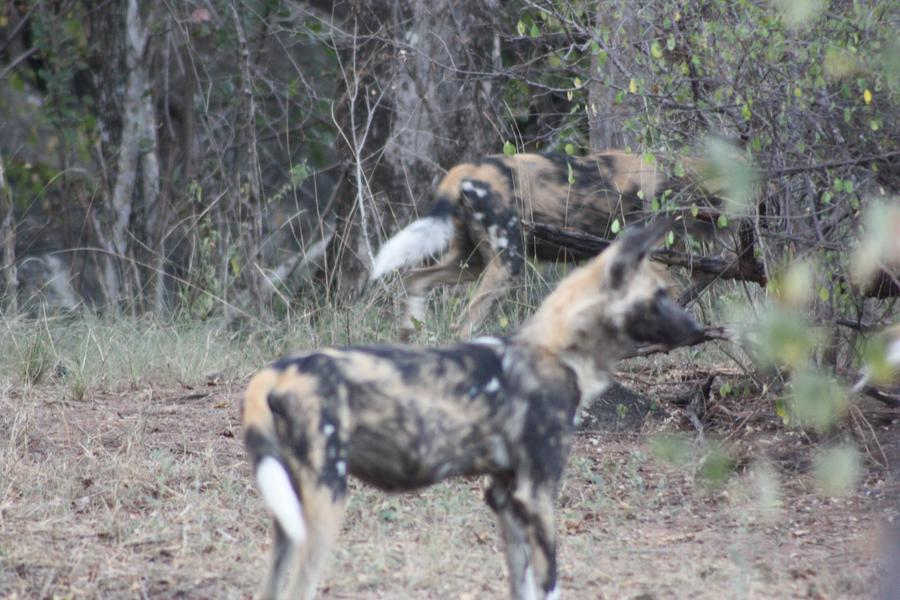wilddog: (253, 360, 583, 541), (431, 136, 614, 242)
